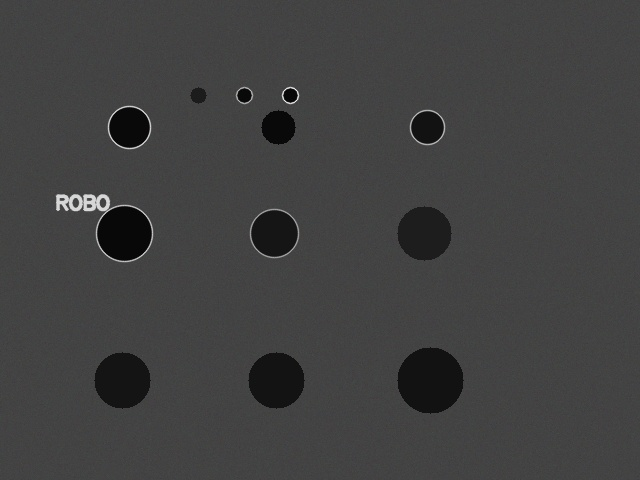hole: (397, 347, 463, 413), (96, 205, 152, 261), (94, 352, 150, 408), (248, 352, 304, 408), (397, 206, 451, 260), (250, 209, 298, 257), (108, 106, 150, 148), (261, 110, 295, 144), (410, 110, 444, 144), (190, 87, 206, 103), (236, 87, 252, 103), (282, 87, 298, 103)
